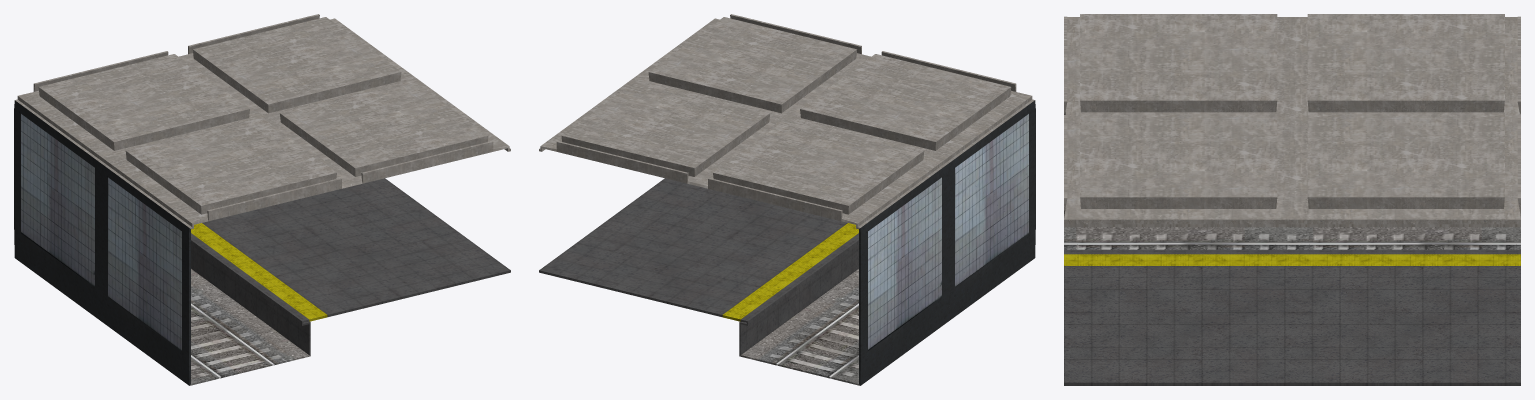
The model's file is Dıs2.fbx.
3 renders of one model, left to right at view 1: azimuth 30°, elevation 25°; view 2: azimuth 150°, elevation 25°; view 3: azimuth 270°, elevation 25°, orthographic. The views are drawn at different scales.
Parts seen in each view (by area): view 1: Dış 2; view 2: Dış 2; view 3: Dış 2.
Boxes of the visible parts, bbox=[...] form: Dış 2: bbox=[14, 14, 510, 385]; Dış 2: bbox=[539, 14, 1035, 385]; Dış 2: bbox=[1064, 14, 1520, 385].
Size of the model in its own units: 1333 by 677 by 1252.
